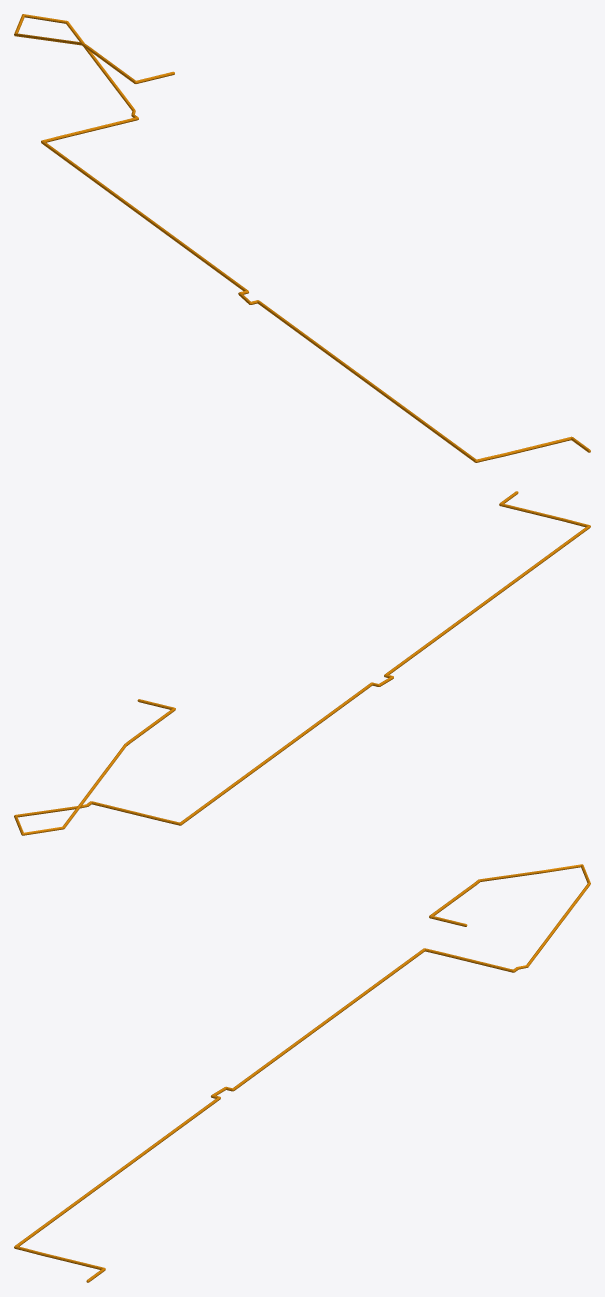
3 views of the same model, one above another, from view 1: azimuth 30°, elevation 25°; view 2: azimuth 150°, elevation 25°; view 3: azimuth 330°, elevation 25° (orthographic). The views are drawn at different scales.
Size of the model in its own units: 749 by 520 by 6292.
